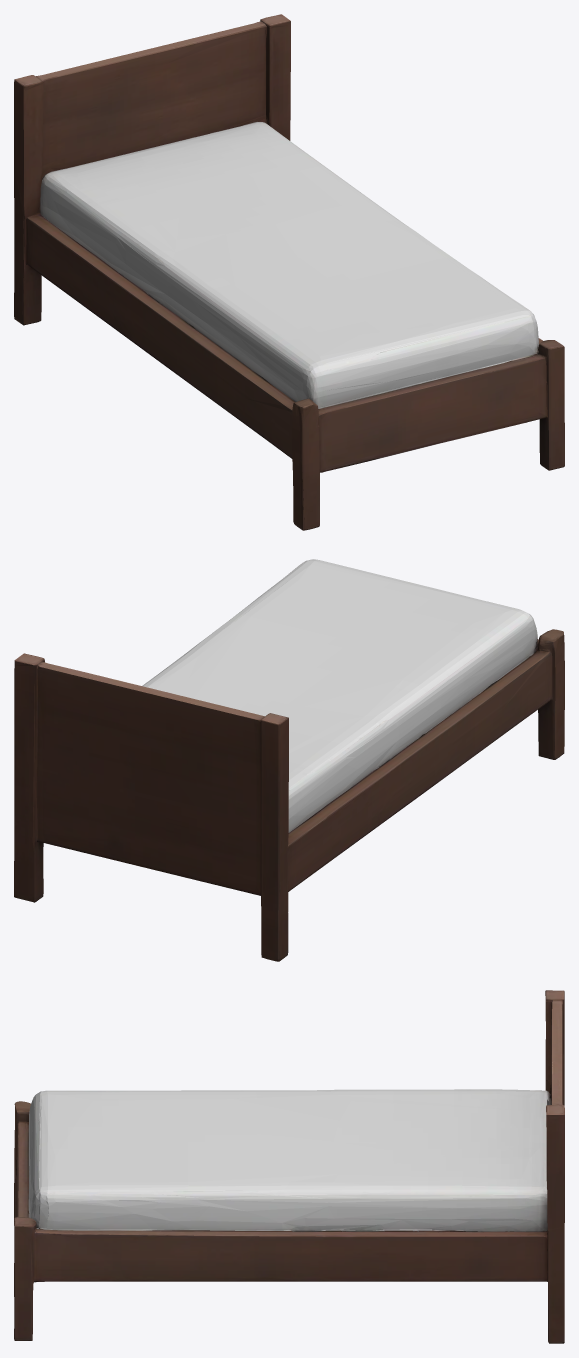
The model's file is bed.glb.
The picture shows the model from 3 angles, top to bottom: view 1: azimuth 30°, elevation 25°; view 2: azimuth 150°, elevation 25°; view 3: azimuth 270°, elevation 25°; orthographic projection. The views are drawn at different scales.
Parts seen in each view (by area): view 1: geometry_0; view 2: geometry_0; view 3: geometry_0.
Boxes of the visible parts, x1,y1,x2,y2 form: geometry_0: (14,14,564,530); geometry_0: (14,559,564,961); geometry_0: (14,990,564,1343).
Bounding box in the file's own units: 0.5386 × 0.4596 × 1.
Materials: 1 (1 with a texture image).
